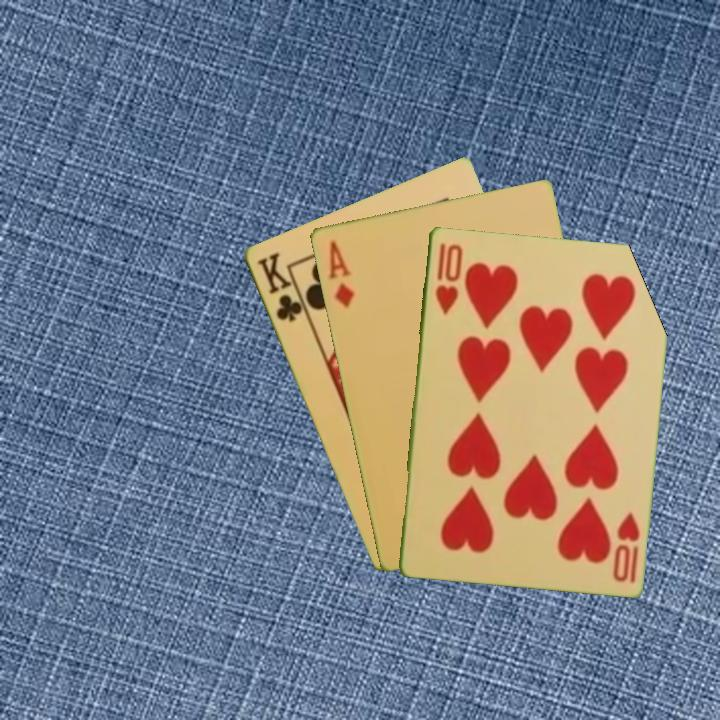10h: (608, 508, 643, 586), (431, 239, 465, 317)
Ad: (324, 237, 357, 311)
Kc: (253, 248, 310, 325)
